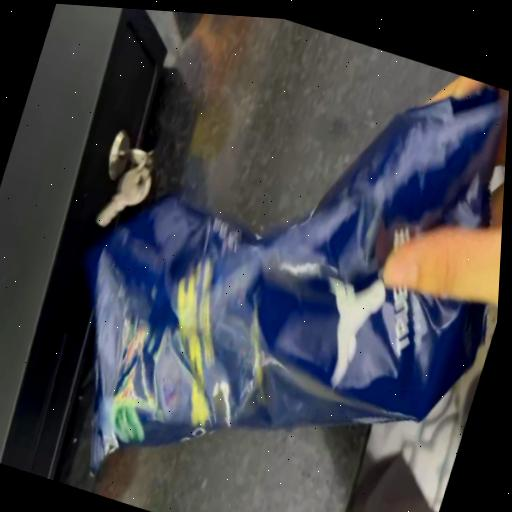cafe_hat: (86, 88, 508, 469)
